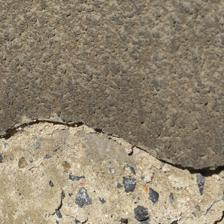Crack: (5, 117, 222, 177)
